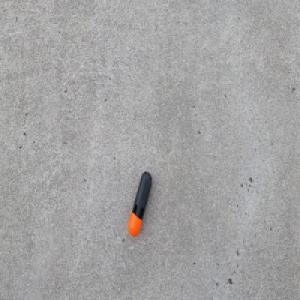PlasticPart: (127, 170, 152, 237)
